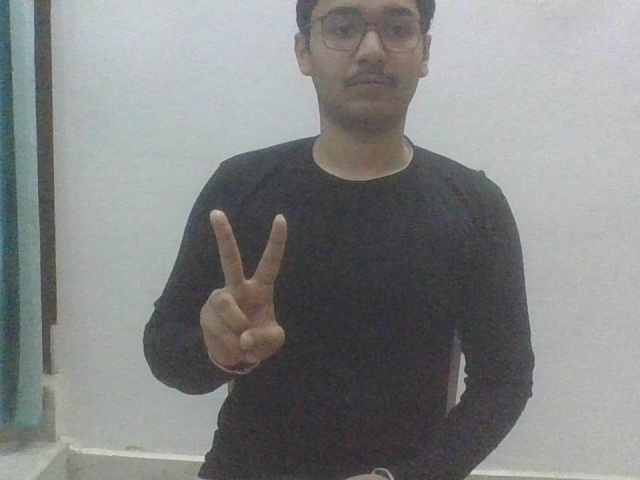V: (202, 206, 290, 370)
